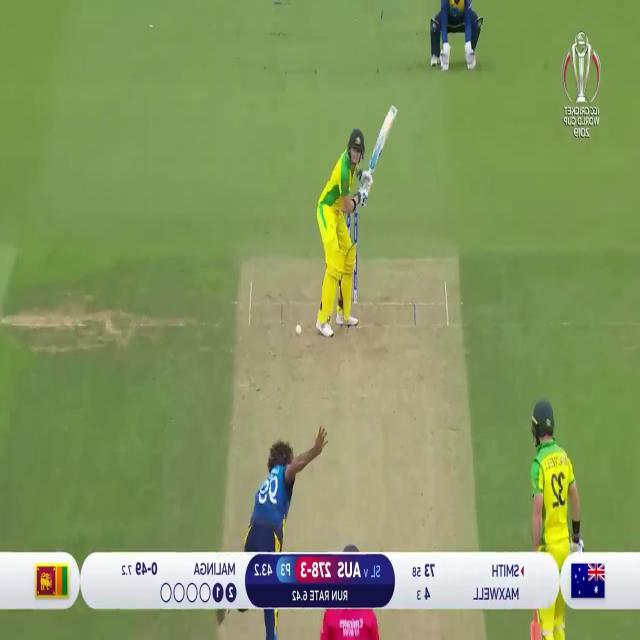ball: (294, 319, 303, 340)
